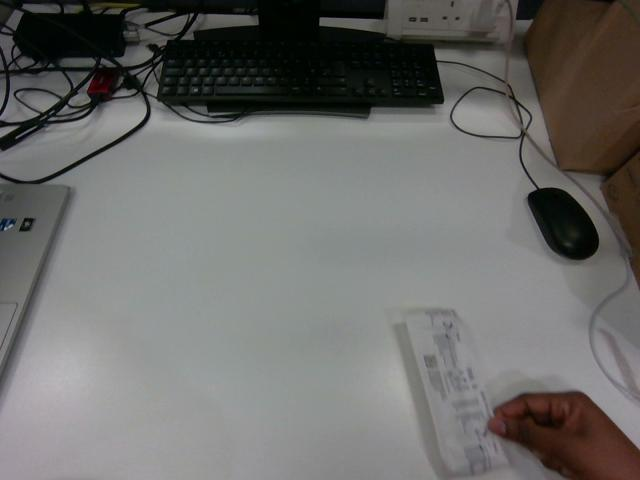syringe: (404, 309, 507, 475)
